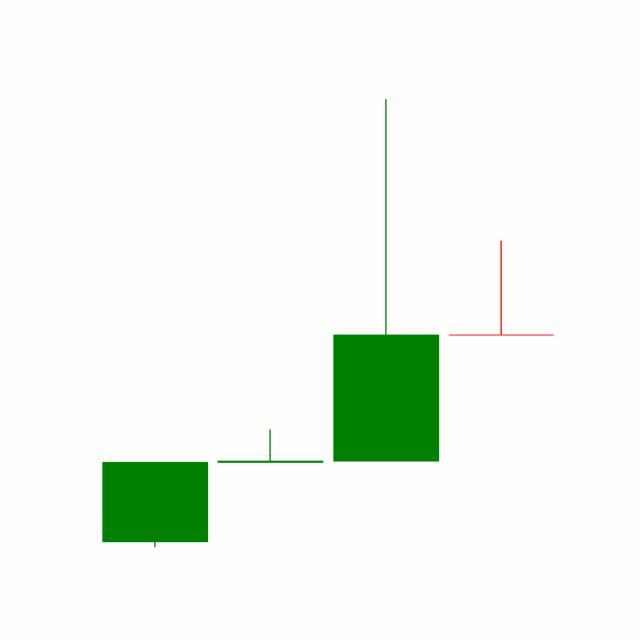Gravestone Doji: (444, 240, 560, 338)
